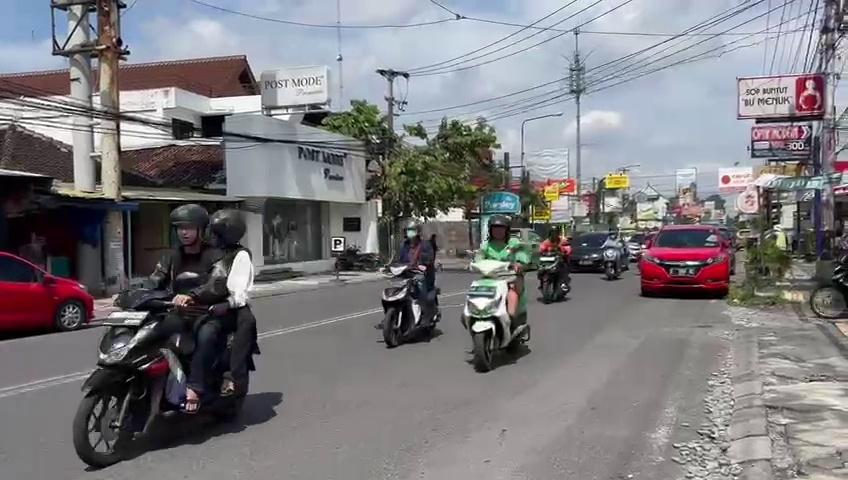helm: (169, 203, 210, 247), (209, 208, 247, 246)
riding: (70, 201, 265, 467)
